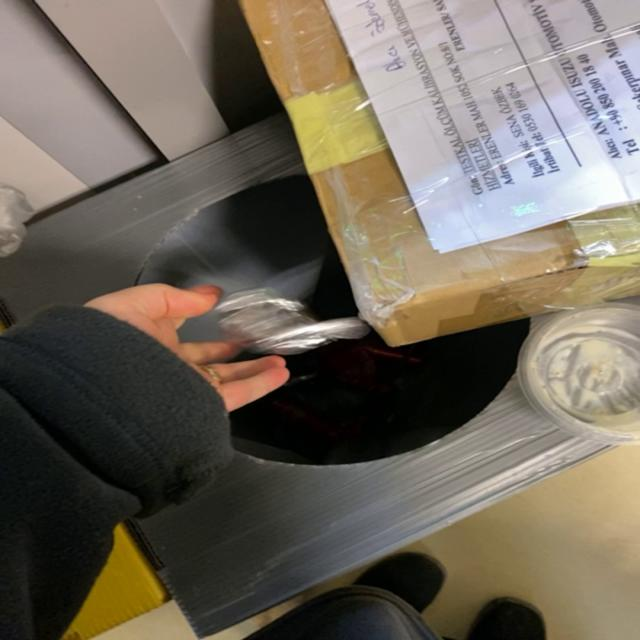bin: (126, 321, 609, 637), (1, 114, 355, 322), (521, 310, 639, 411)
metal: (213, 287, 369, 355)
